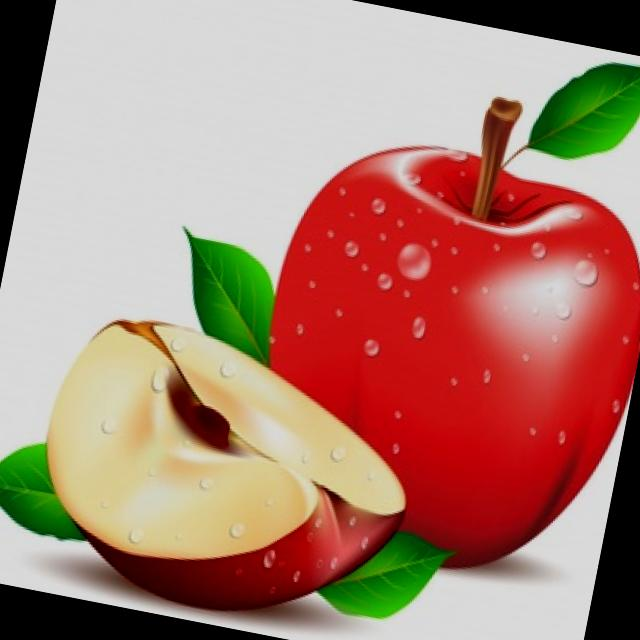apple: (223, 114, 640, 626)
